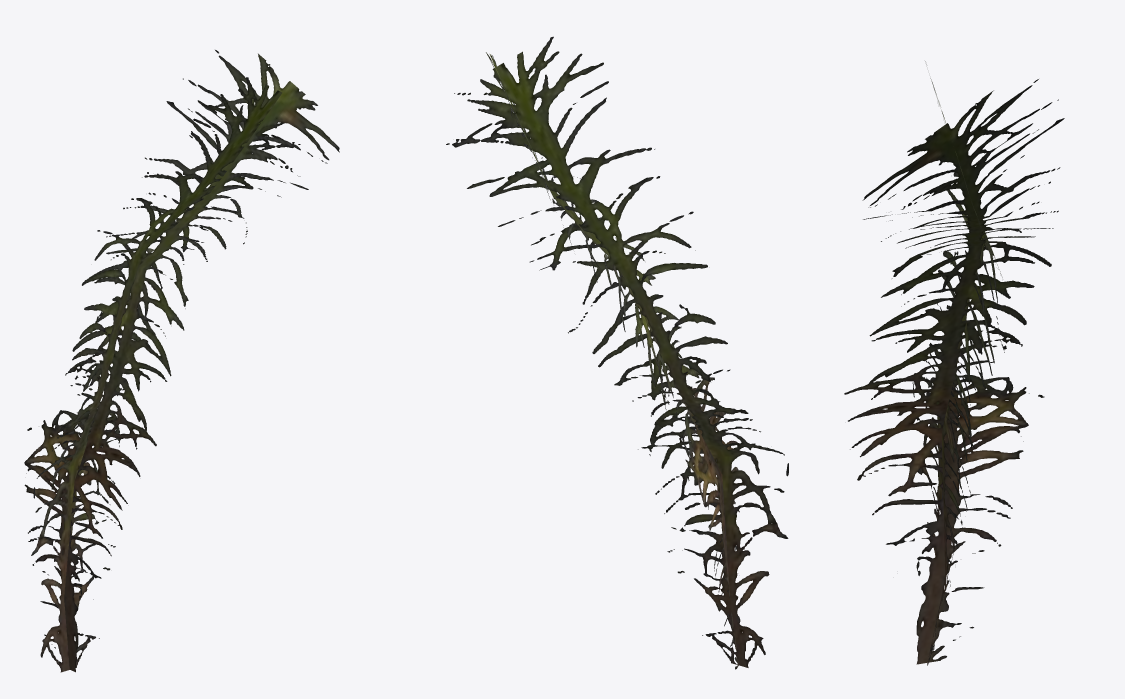
Rendered from moss_01_tall_a_LOD1.glb.
3 renders of one model, left to right at view 1: azimuth 30°, elevation 25°; view 2: azimuth 150°, elevation 25°; view 3: azimuth 270°, elevation 25°, orthographic. The views are drawn at different scales.
Visible parts, largest first — view 1: moss_01_tall_a_LOD1__lod0; view 2: moss_01_tall_a_LOD1__lod0; view 3: moss_01_tall_a_LOD1__lod0.
Boxes of the visible parts, left/top/right/bottom form: moss_01_tall_a_LOD1__lod0: left=24, top=50, right=339, bottom=672; moss_01_tall_a_LOD1__lod0: left=446, top=36, right=788, bottom=669; moss_01_tall_a_LOD1__lod0: left=844, top=61, right=1064, bottom=665.
Size of what is drawn, in the model's own units: 0.0214 by 0.0336 by 0.0113.
Materials: 1 (1 with a texture image).
